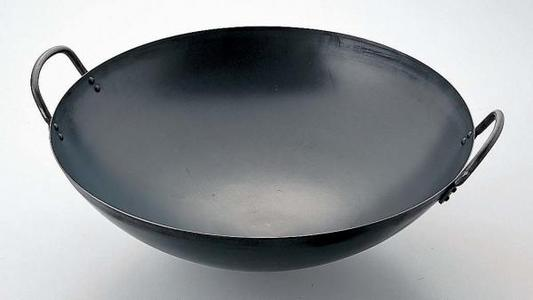Metal: (30, 25, 504, 272)
